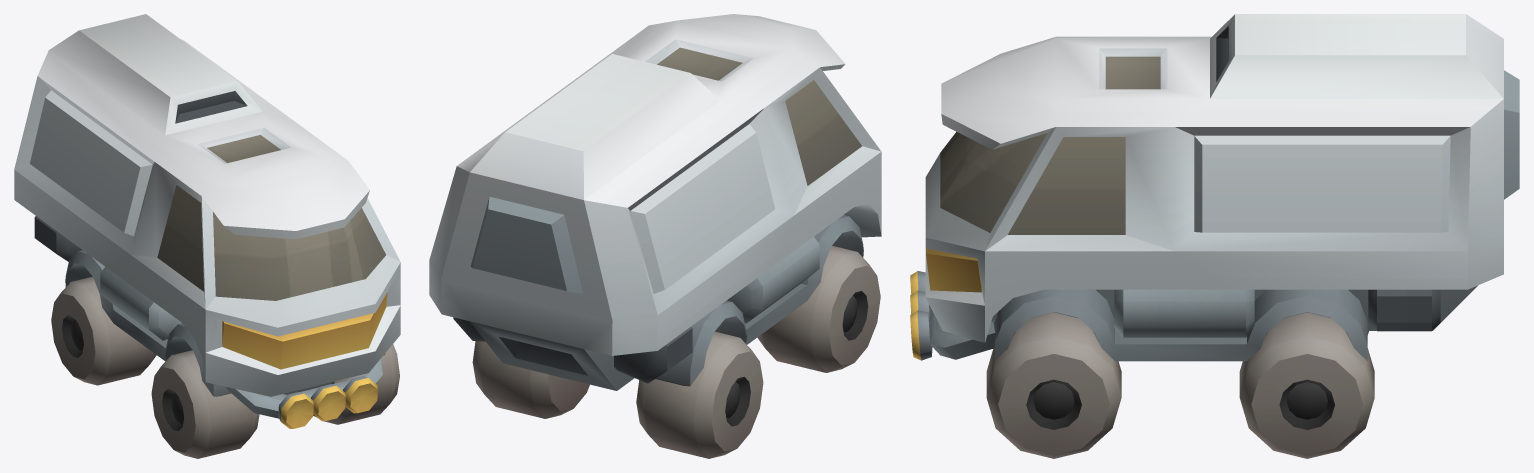
Rendered from kaykit-space-base-bits-spacetruck-large.glb.
3 views of the same model, side by side, from view 1: azimuth 30°, elevation 25°; view 2: azimuth 150°, elevation 25°; view 3: azimuth 270°, elevation 25° (orthographic). The views are drawn at different scales.
Parts seen in each view (by area): view 1: Cube.15123, spacetruck_large_wheel_front_right, spacetruck_large_wheel_rear_right, spacetruck_large_wheel_front_left; view 2: Cube.15123, spacetruck_large_wheel_rear_right, spacetruck_large_wheel_front_right, spacetruck_large_wheel_rear_left; view 3: Cube.15123, spacetruck_large_wheel_front_left, spacetruck_large_wheel_rear_left.
Part boxes in pixels (<box>): Cube.15123: <box>14,14,400,428</box>; spacetruck_large_wheel_front_right: <box>151,350,259,458</box>; spacetruck_large_wheel_rear_right: <box>51,276,156,385</box>; spacetruck_large_wheel_front_left: <box>313,344,399,424</box>; Cube.15123: <box>429,14,881,390</box>; spacetruck_large_wheel_rear_right: <box>636,331,763,458</box>; spacetruck_large_wheel_front_right: <box>757,245,880,372</box>; spacetruck_large_wheel_rear_left: <box>472,341,589,418</box>; Cube.15123: <box>910,14,1519,361</box>; spacetruck_large_wheel_front_left: <box>986,312,1121,458</box>; spacetruck_large_wheel_rear_left: <box>1239,312,1374,458</box>.
Size of the model in its own units: 0.5046 by 0.6855 by 1.03.
Materials: 1 (1 with a texture image).
